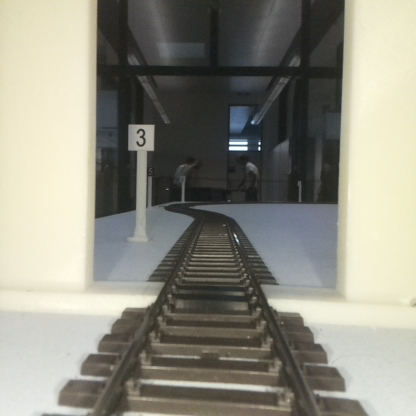white-info-3: (128, 124, 154, 239)
